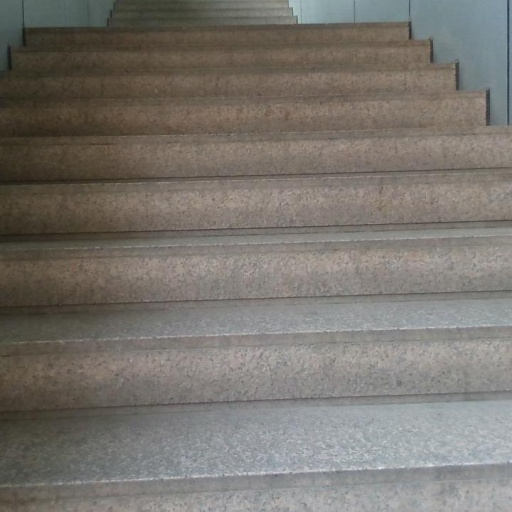Stairs: (0, 23, 512, 512)
